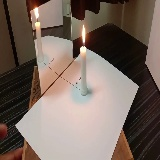fire: (82, 24, 86, 45)
